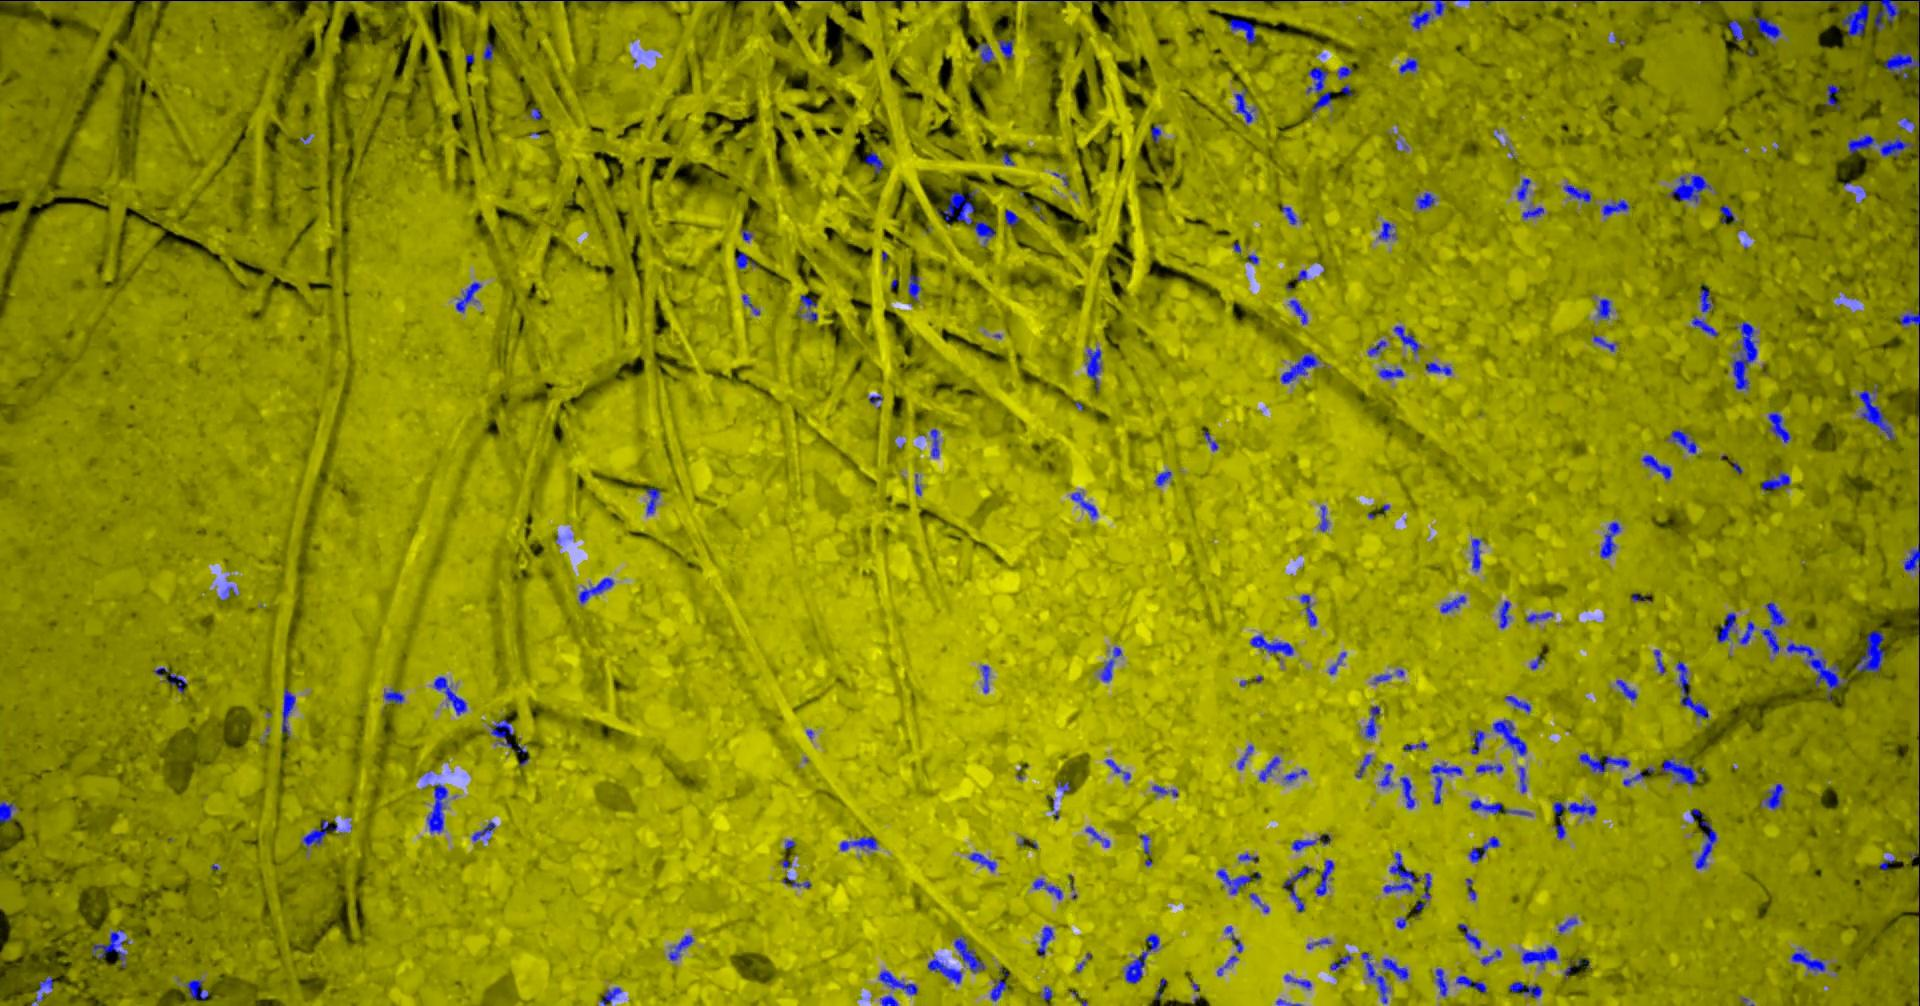ant: (1785, 641, 1848, 700), (937, 191, 994, 244), (1858, 387, 1895, 439), (1676, 661, 1708, 719), (1883, 51, 1919, 102), (1124, 934, 1159, 983), (1552, 801, 1596, 840), (1879, 116, 1919, 158), (1732, 321, 1756, 389), (1690, 808, 1716, 868), (1382, 852, 1418, 893), (1361, 951, 1389, 1005), (91, 929, 130, 967), (1283, 865, 1313, 911), (1430, 762, 1462, 804), (1761, 601, 1785, 654), (1669, 173, 1710, 203), (490, 719, 527, 753), (433, 676, 466, 714), (1855, 630, 1884, 672), (1305, 66, 1332, 112), (1492, 719, 1526, 754), (952, 935, 984, 972), (1410, 0, 1448, 30), (1280, 353, 1318, 384), (1469, 798, 1531, 815), (1578, 752, 1629, 774), (425, 782, 447, 832), (1661, 756, 1697, 785), (877, 970, 917, 995), (578, 577, 613, 603), (1250, 634, 1293, 655), (302, 819, 337, 846), (1217, 868, 1251, 894), (927, 956, 961, 983), (455, 281, 481, 312), (1468, 836, 1498, 862), (1599, 521, 1620, 558), (1790, 948, 1825, 970), (1393, 325, 1420, 354), (1641, 453, 1671, 479), (1227, 17, 1255, 43), (1749, 17, 1780, 39), (1234, 86, 1255, 122), (1521, 945, 1557, 965), (1084, 348, 1101, 391), (1070, 492, 1097, 518), (1314, 859, 1333, 895), (1768, 412, 1790, 442), (281, 687, 295, 735), (1670, 429, 1697, 453), (1759, 782, 1783, 809), (668, 934, 692, 960), (1032, 878, 1062, 899), (1291, 833, 1330, 850), (1457, 923, 1481, 949), (795, 293, 817, 321), (1760, 471, 1789, 492), (1716, 612, 1736, 641), (839, 836, 877, 851), (1382, 958, 1408, 979), (1415, 873, 1430, 909), (1509, 981, 1542, 997), (1848, 133, 1876, 152), (968, 852, 996, 871), (1084, 826, 1109, 847), (1691, 316, 1717, 337), (1258, 756, 1279, 781), (1563, 956, 1590, 976), (1364, 705, 1379, 738), (1455, 976, 1486, 992), (1288, 298, 1307, 324), (1105, 760, 1130, 779), (1399, 776, 1415, 808), (1563, 184, 1590, 202), (1503, 695, 1530, 713), (1224, 925, 1242, 951), (165, 672, 187, 694), (1300, 594, 1316, 625), (1037, 926, 1053, 956), (471, 821, 495, 840), (1440, 594, 1465, 612), (1615, 680, 1637, 700), (1217, 955, 1238, 976), (185, 979, 208, 998), (1236, 744, 1253, 768), (645, 486, 660, 514), (1283, 974, 1310, 989), (1248, 892, 1269, 912), (863, 151, 883, 173), (1601, 199, 1628, 215), (1903, 544, 1919, 570), (735, 249, 756, 268), (742, 293, 759, 315), (1330, 953, 1351, 970), (599, 987, 621, 1005), (1737, 621, 1754, 644), (1328, 652, 1345, 674), (1355, 754, 1371, 777), (990, 978, 1007, 1001), (1425, 361, 1451, 375), (977, 43, 994, 64), (1727, 19, 1743, 41), (1825, 84, 1839, 109), (1698, 285, 1710, 312), (1435, 968, 1448, 996), (1415, 192, 1434, 210), (1378, 221, 1396, 240), (1470, 730, 1484, 754), (1470, 539, 1481, 572), (1592, 335, 1614, 351), (908, 276, 921, 301), (1377, 367, 1404, 379), (1498, 600, 1510, 627), (1525, 611, 1553, 622), (1378, 763, 1392, 786), (1283, 768, 1305, 782), (997, 38, 1012, 58), (1398, 57, 1418, 72), (1481, 949, 1501, 964), (1150, 785, 1177, 796), (1516, 178, 1530, 199), (1098, 659, 1112, 681), (1622, 771, 1643, 785), (1719, 205, 1735, 224), (1281, 205, 1297, 224), (1900, 311, 1919, 326), (1203, 431, 1218, 450), (1653, 649, 1665, 674), (782, 876, 810, 887), (1521, 206, 1543, 218), (1368, 340, 1385, 356), (36, 976, 53, 991), (1596, 298, 1610, 318), (383, 688, 403, 702), (0, 801, 14, 821), (930, 428, 938, 457), (1154, 470, 1171, 485), (1476, 763, 1503, 772), (1517, 766, 1526, 793), (1465, 878, 1476, 901), (1004, 210, 1018, 226), (1319, 506, 1328, 531), (1558, 918, 1576, 931), (1138, 835, 1149, 854), (1403, 741, 1427, 749), (982, 666, 989, 692), (879, 995, 898, 1005), (483, 43, 493, 61), (1150, 124, 1161, 142), (1057, 780, 1070, 793), (1336, 66, 1351, 77)
